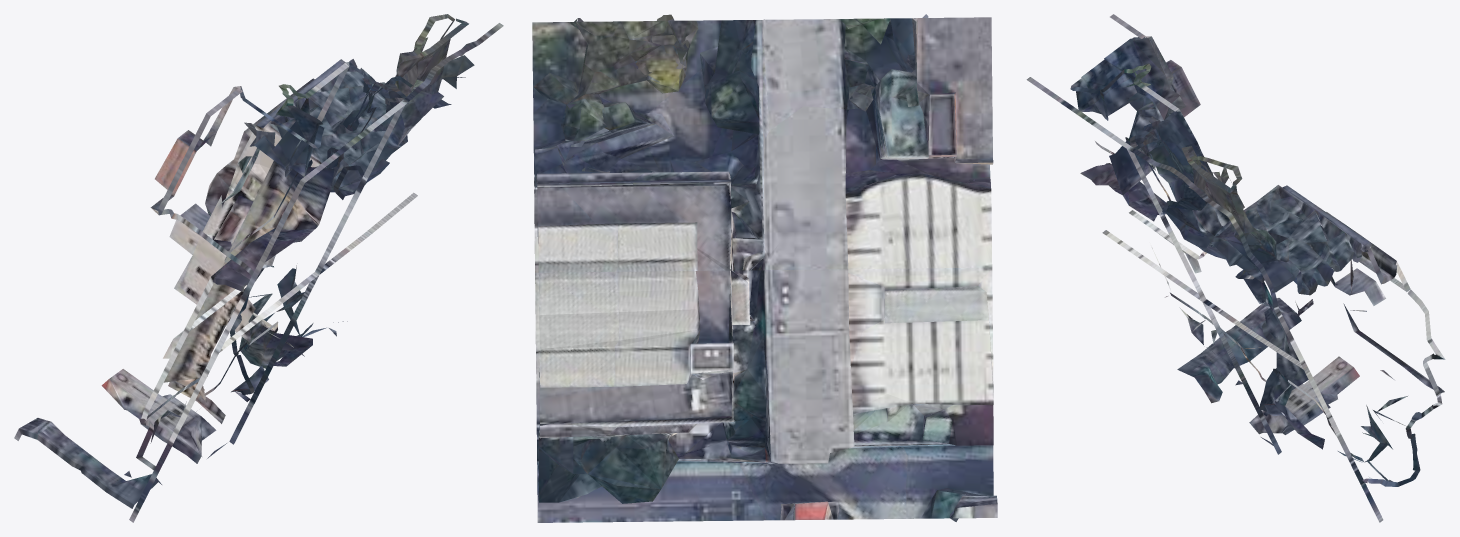
3 renders of one model, left to right at view 1: azimuth 30°, elevation 25°; view 2: azimuth 150°, elevation 25°; view 3: azimuth 270°, elevation 25°, orthographic. The views are drawn at different scales.
Bounding box in the file's own units: 87.48 × 77.59 × 75.85.
Materials: 1 (1 with a texture image).
